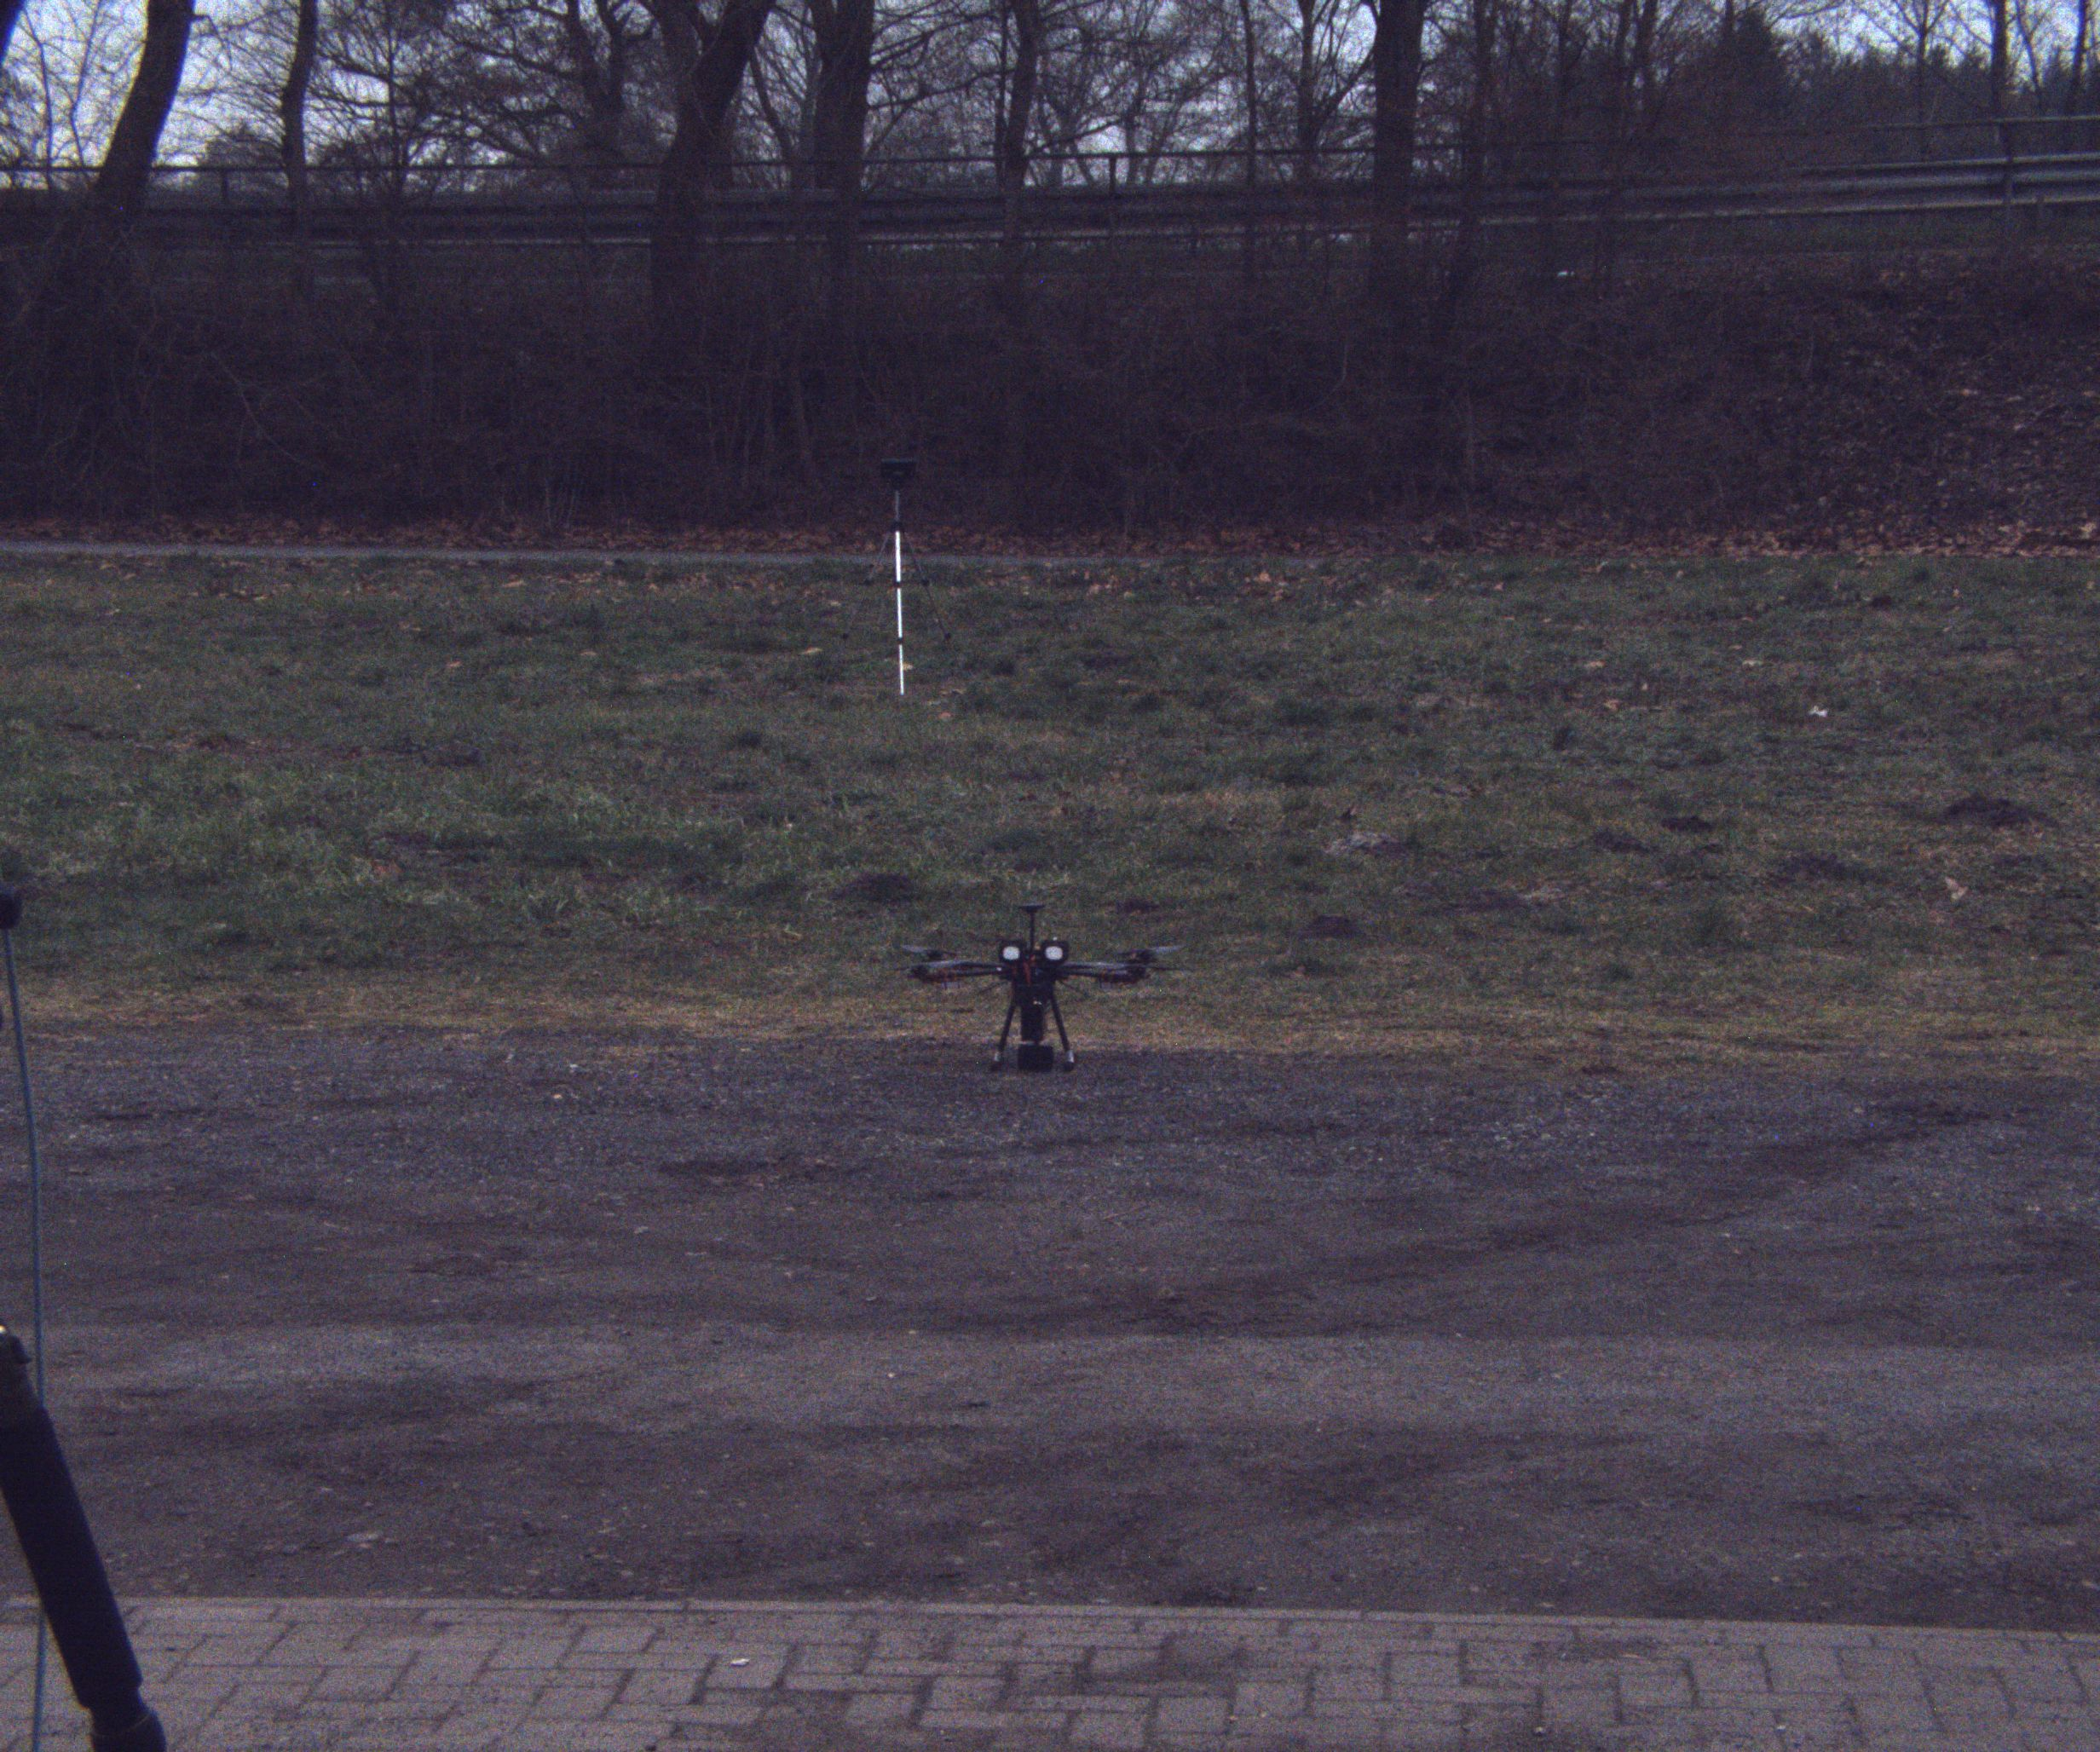Drohne: (883, 893, 1212, 1124)
